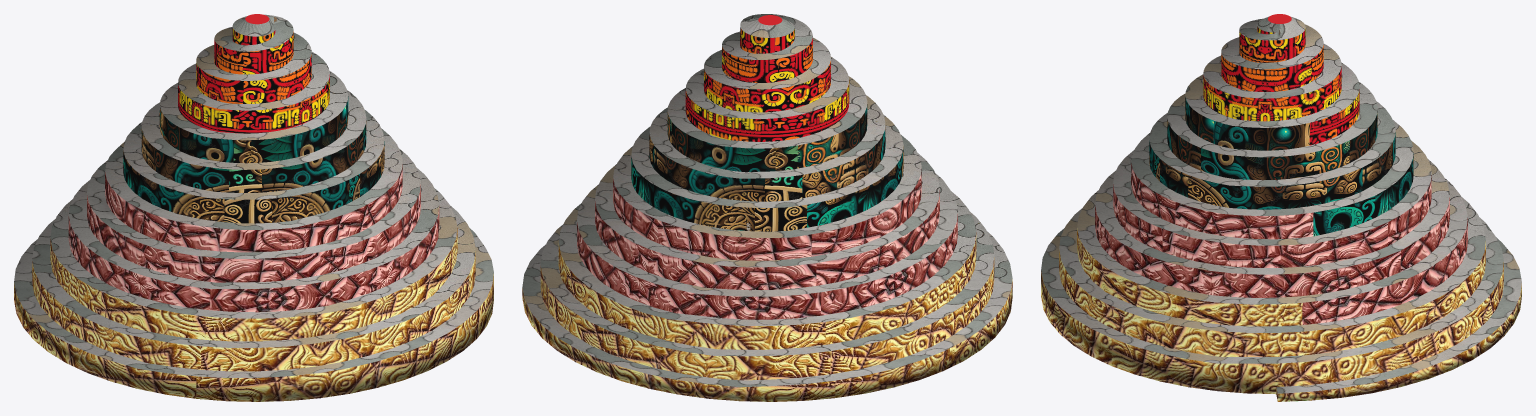
Rendered from tower3.fbx.
3 renders of one model, left to right at view 1: azimuth 30°, elevation 25°; view 2: azimuth 150°, elevation 25°; view 3: azimuth 270°, elevation 25°, orthographic.
Parts seen in each view (by area): view 1: Circle; view 2: Circle; view 3: Circle.
Part boxes in pixels (x1,y1,x2,y2): Circle: [14, 14, 493, 401]; Circle: [522, 14, 1012, 401]; Circle: [1041, 14, 1521, 401].
Bounding box in the file's own units: 20373 × 12739 × 19999.
Materials: 8 (6 with a texture image).
